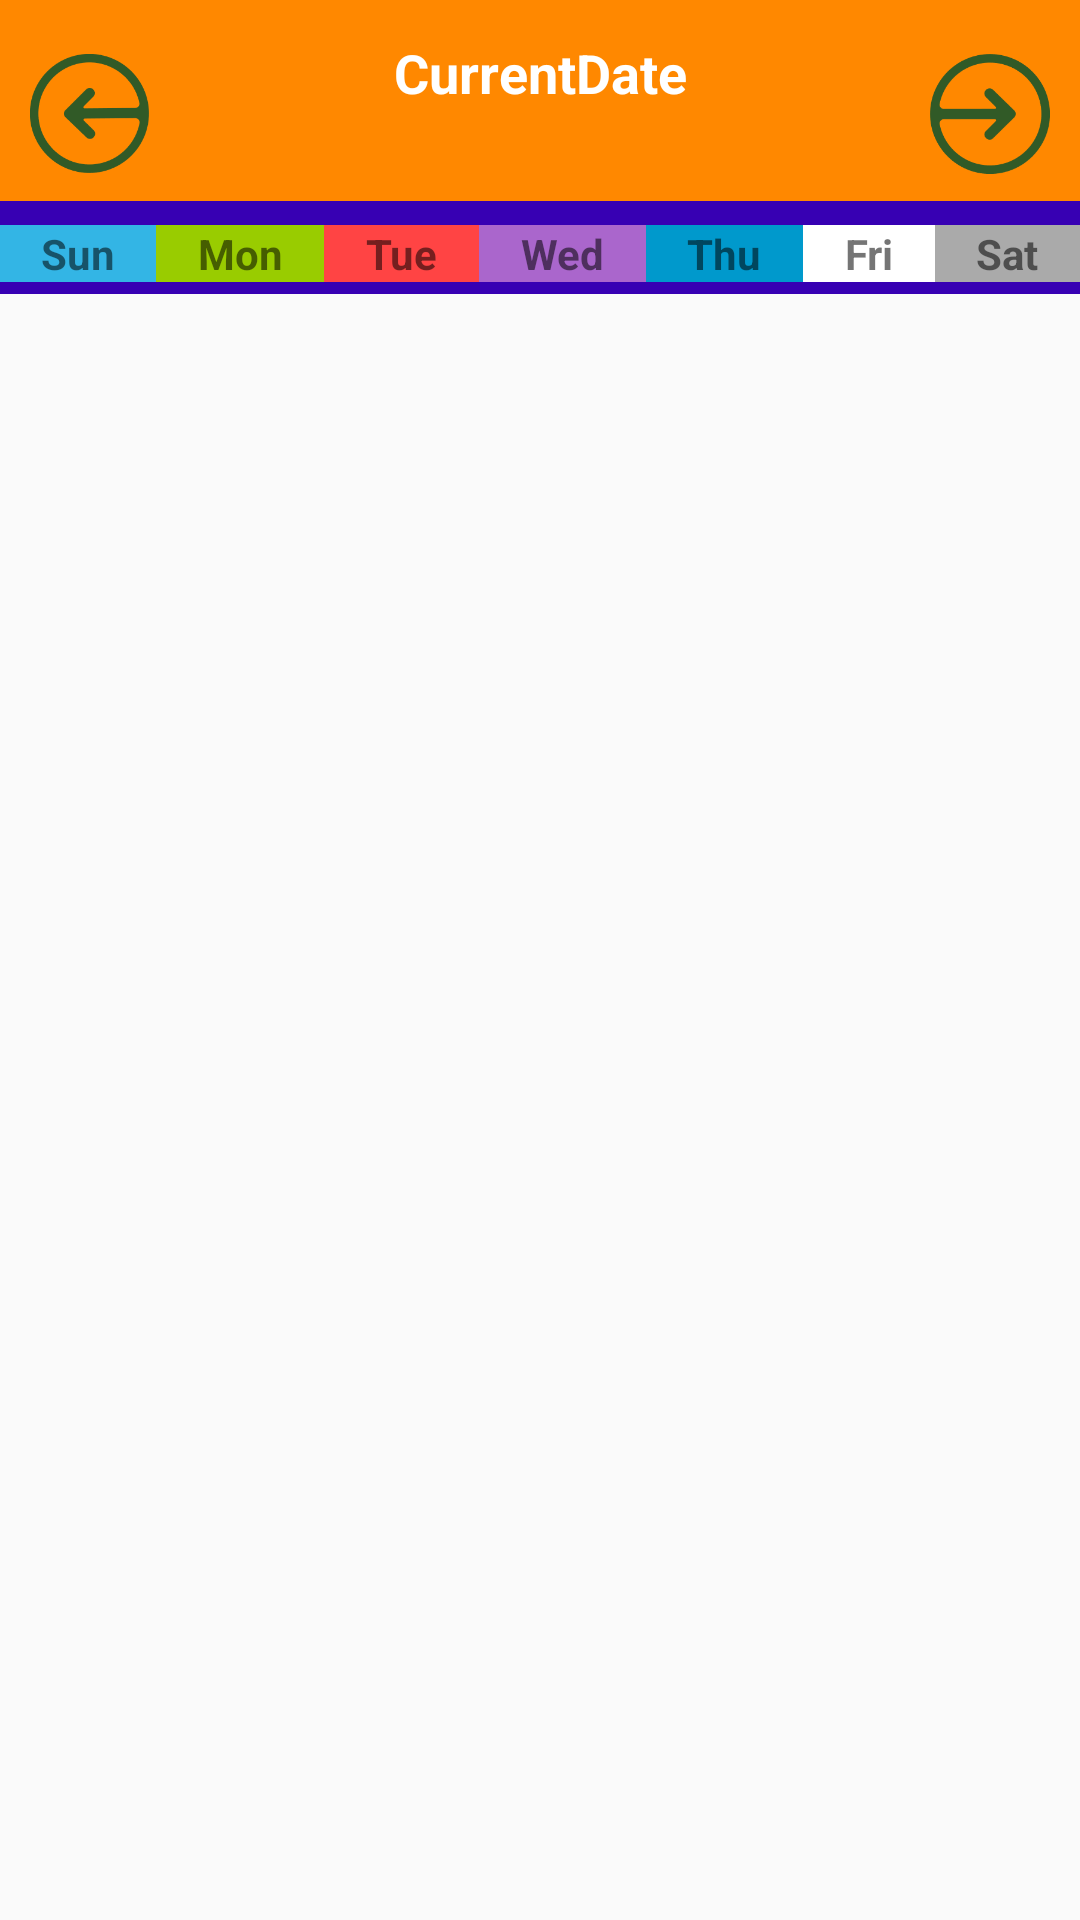

Screen size 1080x1920. Icon name, then its center in pixels as [x,y]:
next: [990,114]
previous: [89,113]
